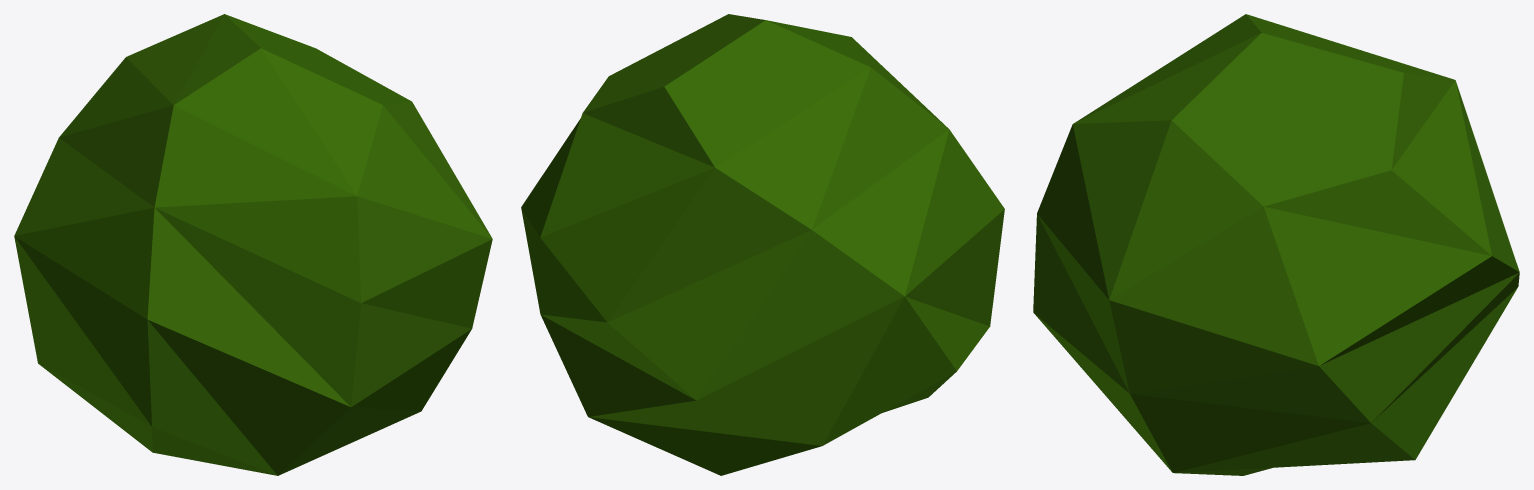
The model's file is Prop_Fruit_Lime_01.fbx.
3 views of the same model, side by side, from view 1: azimuth 30°, elevation 25°; view 2: azimuth 150°, elevation 25°; view 3: azimuth 270°, elevation 25° (orthographic). The views are drawn at different scales.
Parts seen in each view (by area): view 1: Prop_Fruit_Lime_01; view 2: Prop_Fruit_Lime_01; view 3: Prop_Fruit_Lime_01.
Boxes of the visible parts, x1=… form: Prop_Fruit_Lime_01: x1=14, y1=14, x2=492, y2=475; Prop_Fruit_Lime_01: x1=521, y1=14, x2=1004, y2=475; Prop_Fruit_Lime_01: x1=1033, y1=14, x2=1519, y2=475.
Size of the model in its own units: 116 by 110 by 112.
